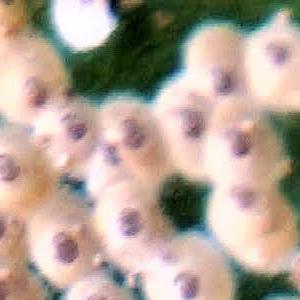Femea: (206, 179, 299, 271), (159, 98, 222, 180), (240, 29, 298, 113), (218, 109, 289, 175), (185, 27, 245, 100), (37, 100, 92, 177), (103, 194, 159, 264), (99, 103, 144, 188), (11, 46, 64, 110), (75, 154, 123, 217), (40, 217, 92, 272), (0, 138, 33, 203), (168, 252, 213, 299)
